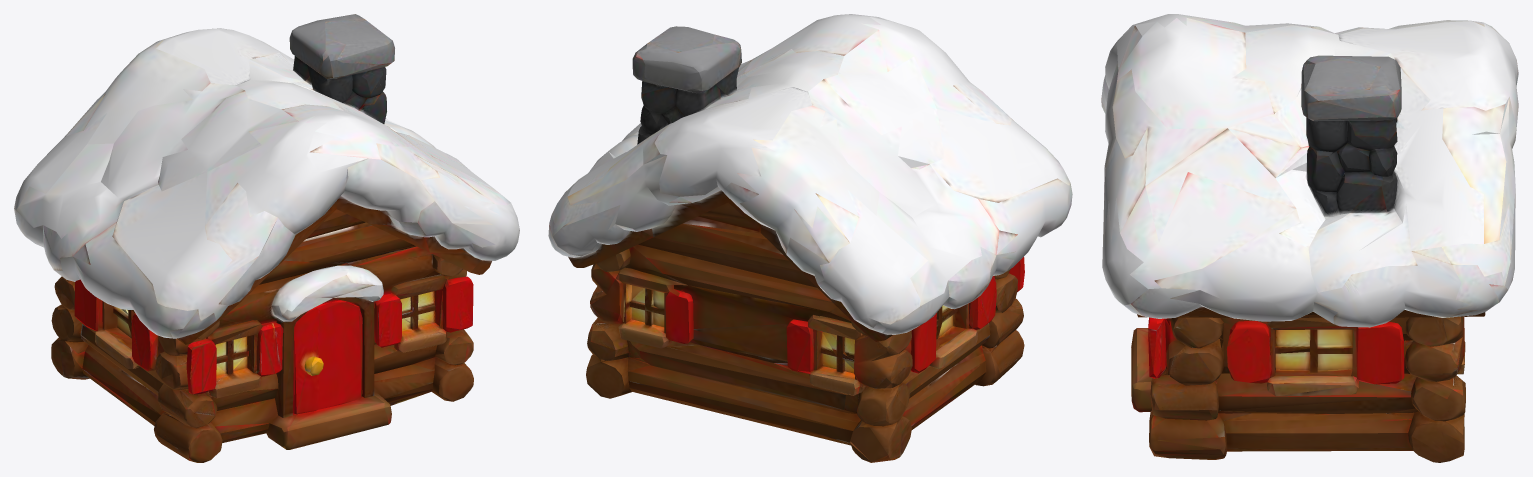
File: sne-hytte.glb
The picture shows the model from 3 angles, left to right: view 1: azimuth 30°, elevation 25°; view 2: azimuth 150°, elevation 25°; view 3: azimuth 270°, elevation 25°; orthographic projection. The views are drawn at different scales.
Bounding box in the file's own units: 1.9 × 1.51 × 1.55.
Materials: 1 (1 with a texture image).
